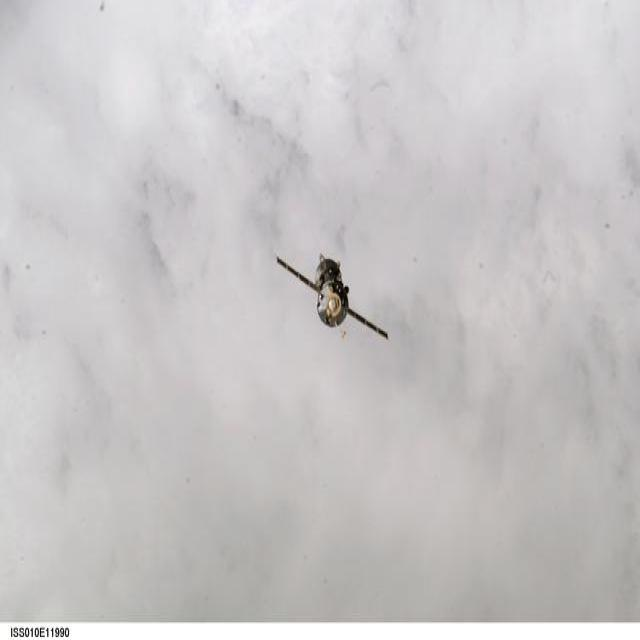medium_debris: (276, 256, 388, 337)
